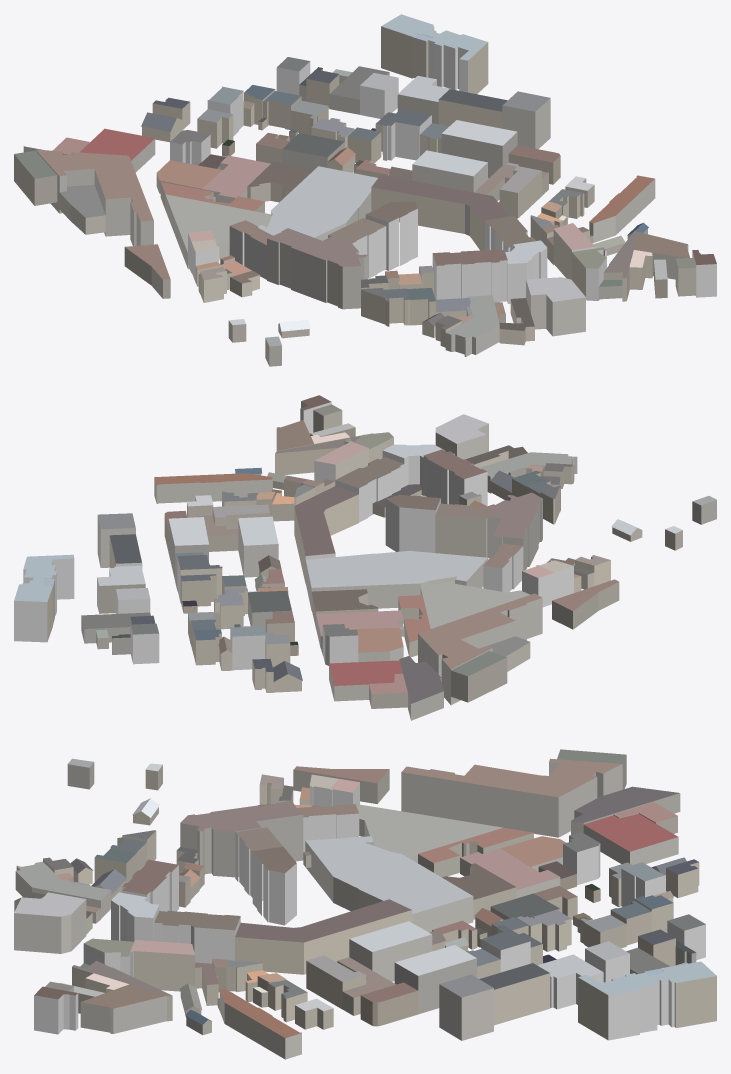
3 renders of one model, top to bottom at view 1: azimuth 30°, elevation 25°; view 2: azimuth 150°, elevation 25°; view 3: azimuth 270°, elevation 25°, orthographic. The views are drawn at different scales.
Parts seen in each view (by area): view 1: tuile; view 2: tuile; view 3: tuile.
Part boxes in pixels (x1=…): tuile: x1=14, y1=14, x2=716, y2=366; tuile: x1=14, y1=395, x2=716, y2=720; tuile: x1=14, y1=749, x2=716, y2=1059.
Bounding box in the file's own units: 236 × 25.52 × 269.
